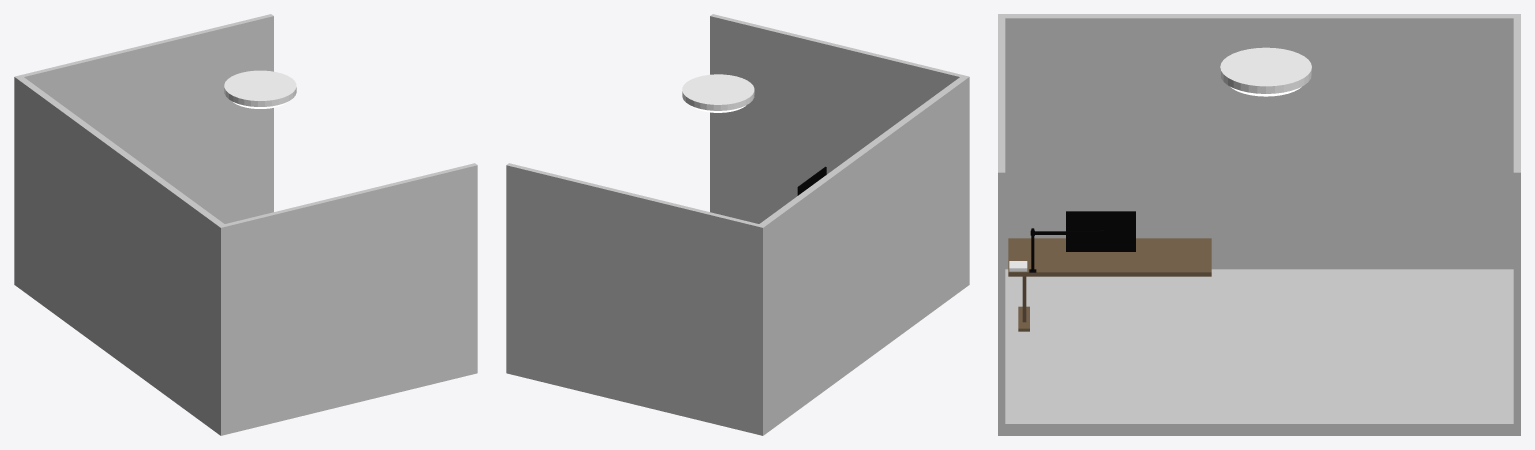
File: RoomModel.glb
3 views of the same model, side by side, from view 1: azimuth 30°, elevation 25°; view 2: azimuth 150°, elevation 25°; view 3: azimuth 270°, elevation 25° (orthographic). The views are drawn at different scales.
Visible parts, largest first — view 1: Walls, Light Enclosure; view 2: Walls, Light Enclosure; view 3: Walls, Wood Desk, Light Enclosure, Monitor.
Part boxes in pixels (x1,y1,x2,y2): Walls: (14, 14, 477, 435); Light Enclosure: (224, 70, 296, 106); Walls: (506, 14, 969, 435); Light Enclosure: (682, 74, 754, 110); Walls: (998, 14, 1520, 435); Wood Desk: (1008, 238, 1211, 276); Light Enclosure: (1220, 47, 1311, 93); Monitor: (1066, 211, 1135, 251).
Size of the model in its own units: 2.71 by 2.39 by 3.77.
